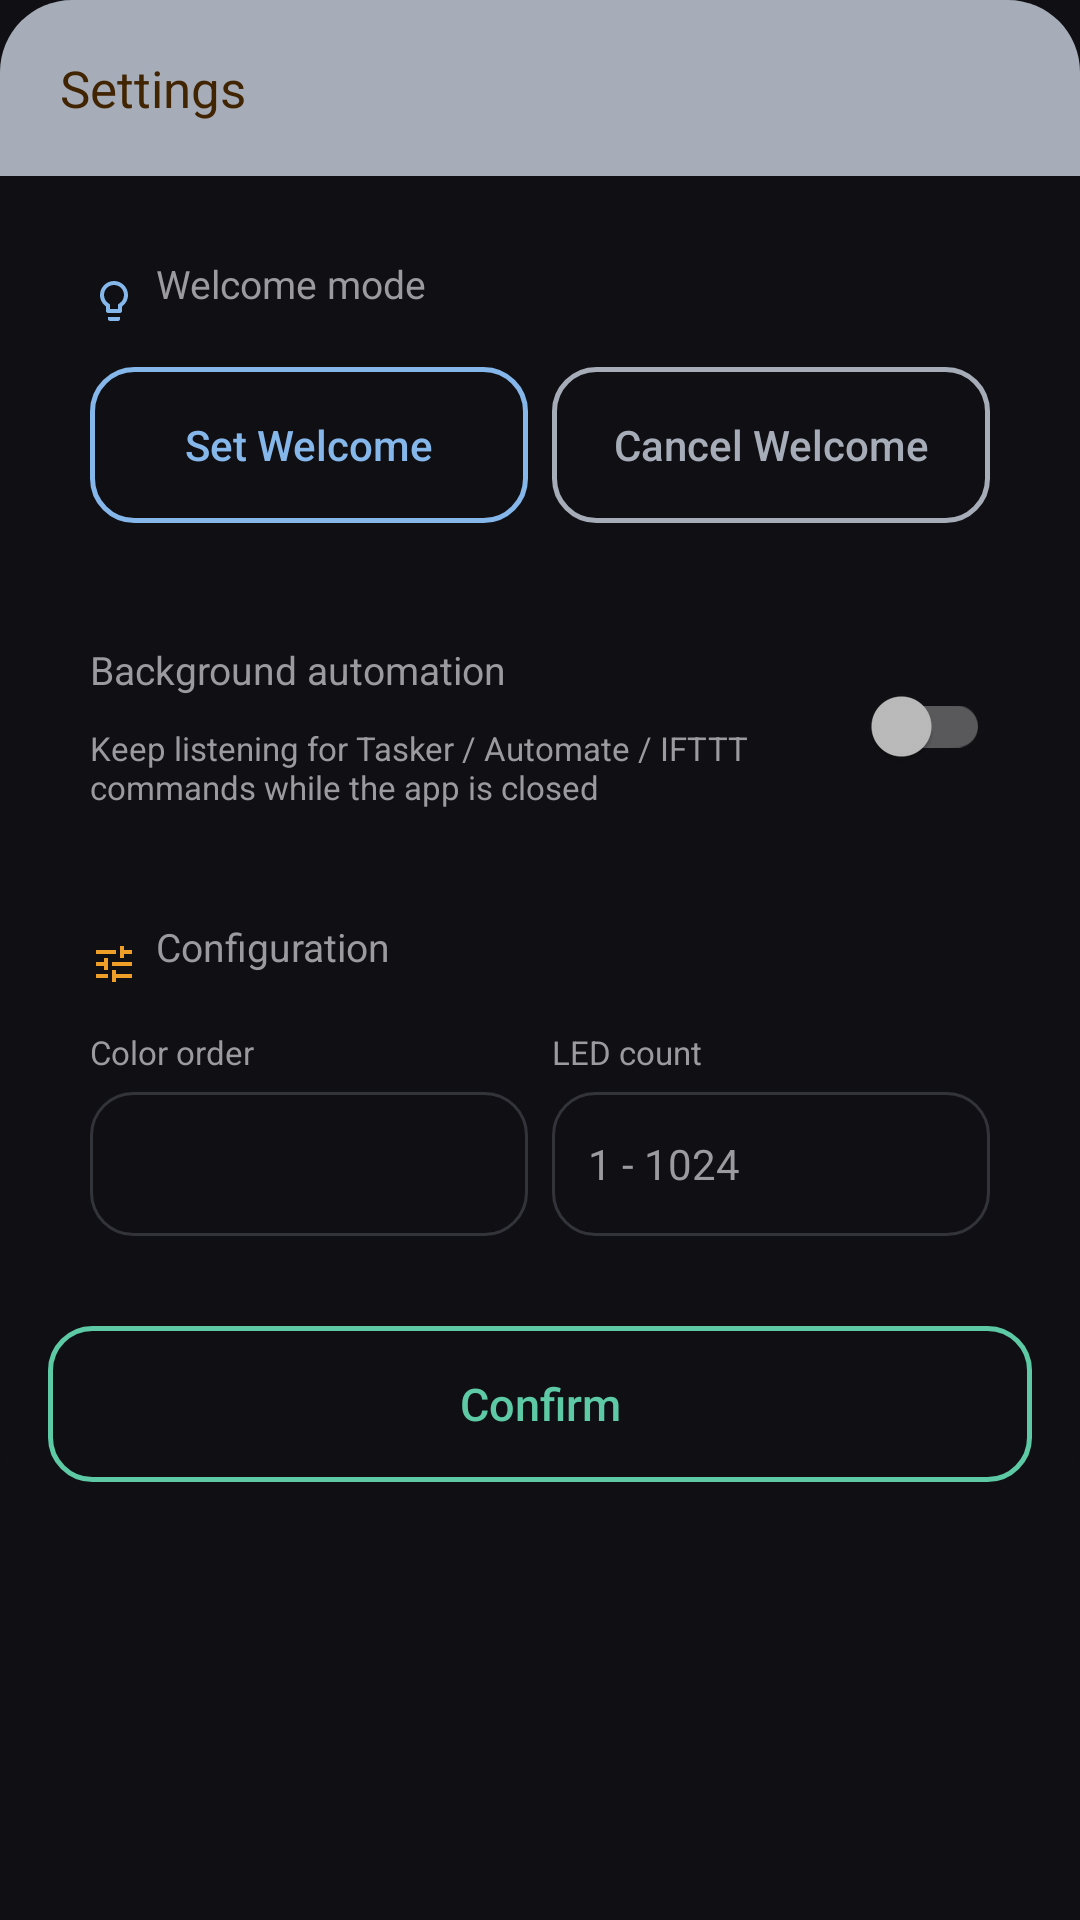

Icons on this 1080x1920 Android screen, each with its box as rect(x1, y1, x2, y2):
bulb: rect(100, 281, 128, 321)
tune: rect(96, 946, 132, 982)
